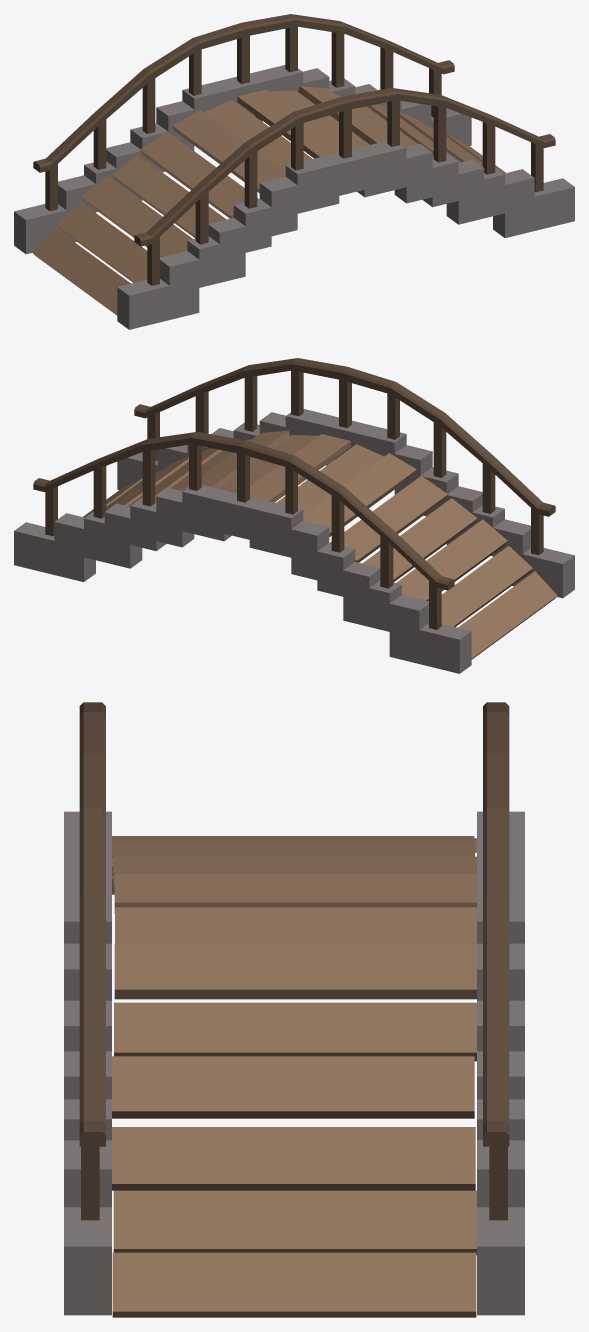
File: Bridge.fbx
3 views of the same model, one above another, from view 1: azimuth 30°, elevation 25°; view 2: azimuth 150°, elevation 25°; view 3: azimuth 270°, elevation 25° (orthographic). The views are drawn at different scales.
Parts seen in each view (by area): view 1: Cube.034; view 2: Cube.034; view 3: Cube.034.
Boxes of the visible parts, bbox=[...] form: Cube.034: bbox=[14, 14, 574, 329]; Cube.034: bbox=[14, 358, 574, 673]; Cube.034: bbox=[64, 702, 524, 1317].
Bounding box in the file's own units: 858 × 325 × 384.
